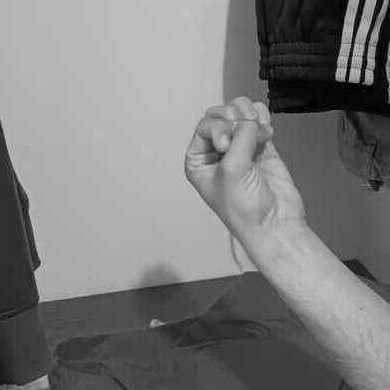E: (184, 95, 307, 237)
